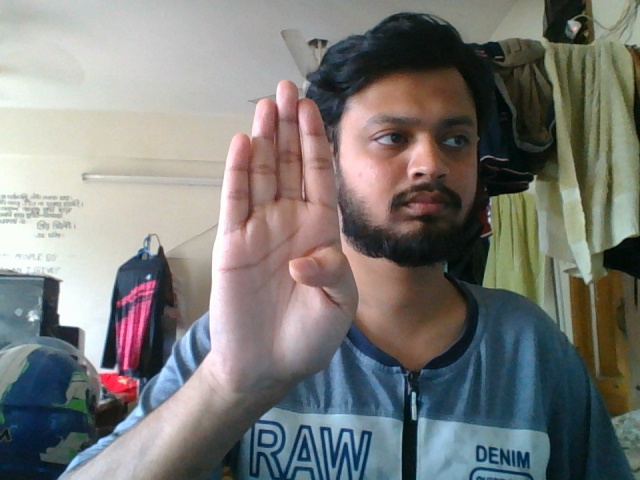ba: (207, 75, 364, 453)
